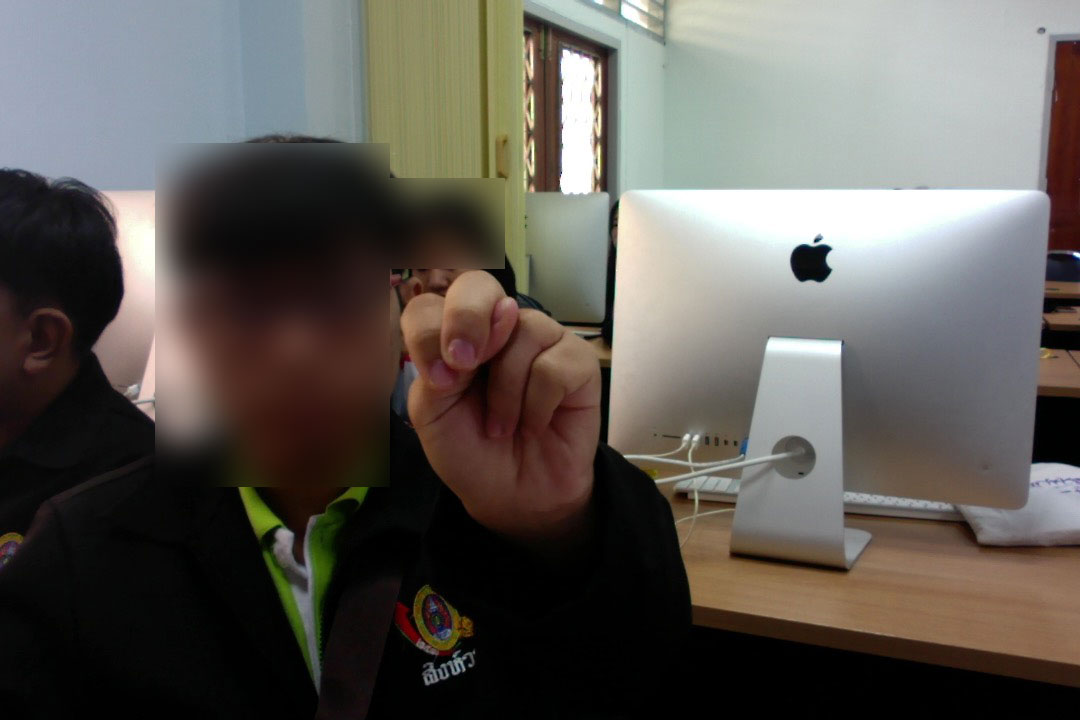nor: (392, 261, 612, 516)
